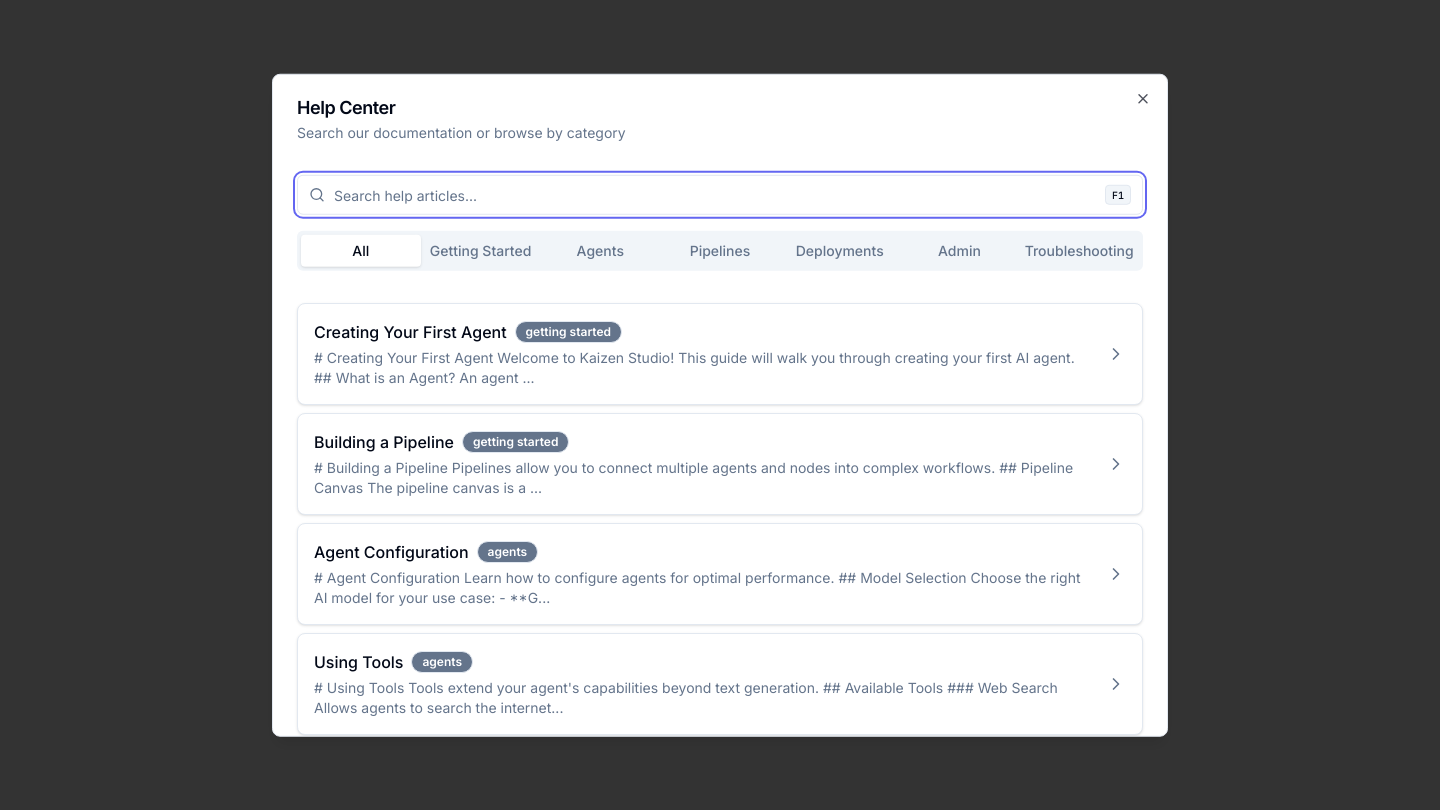
it: HelpDialog › should show empty state for no results
Type "xyznonexistent123" into the field with placeholder "Search help articles..." at (720, 195), box left=297, top=175, right=1143, bottom=215
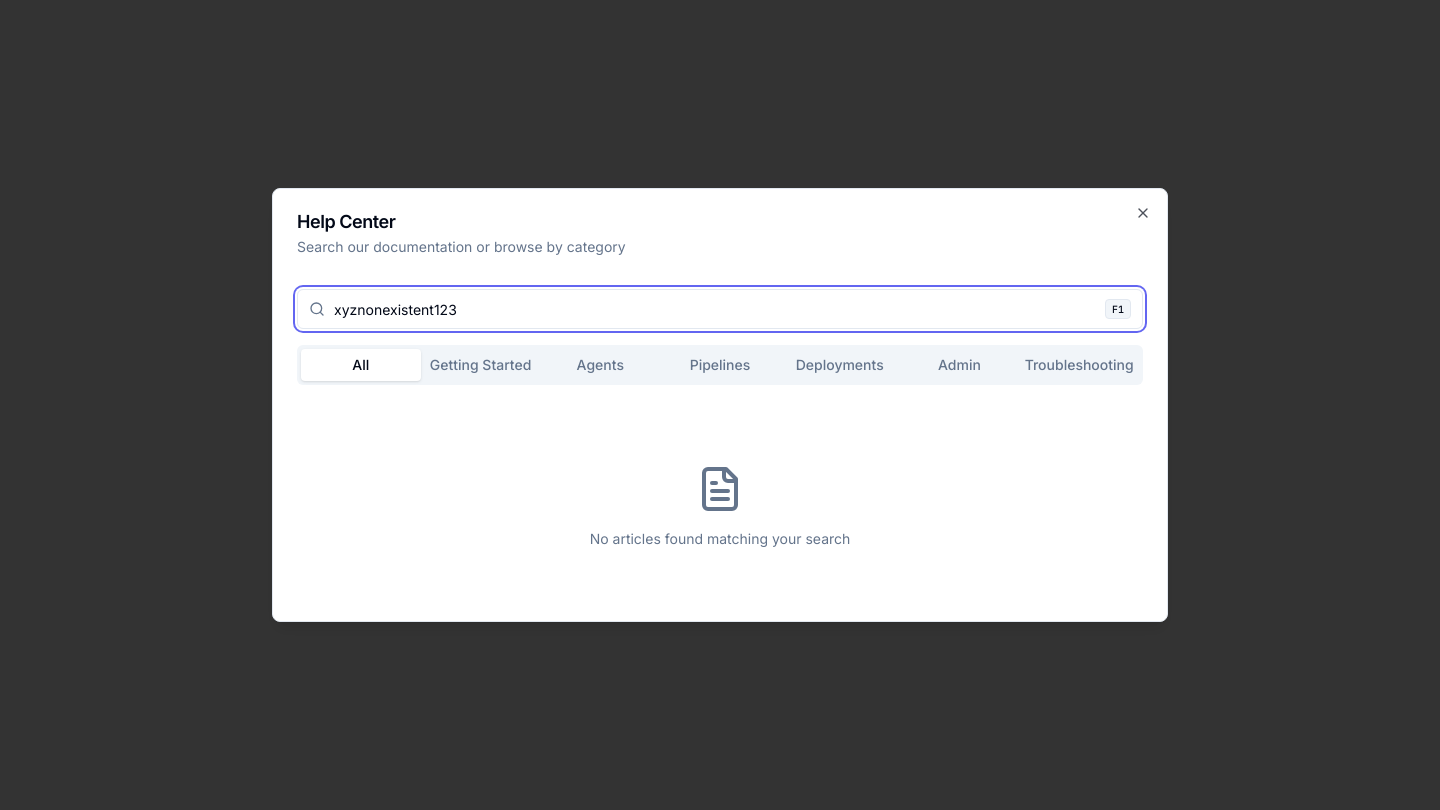
Expected: the text "No articles found matching your search" is shown, left=590, top=529, right=850, bottom=549
